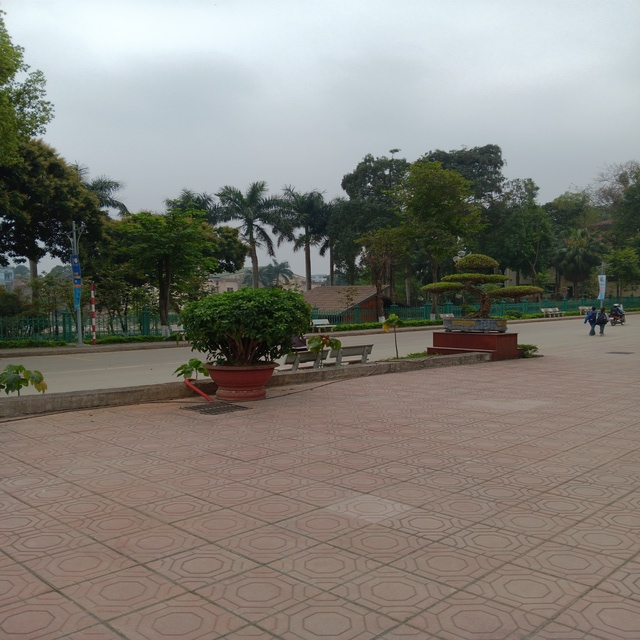caycanh: (181, 287, 310, 412), (425, 246, 536, 331)
